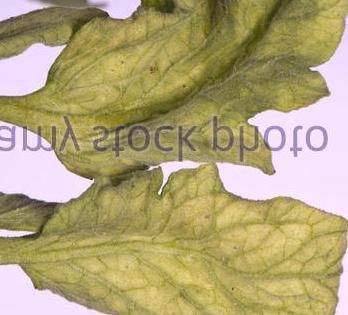Tomato leaf mosaic virus: (15, 0, 348, 196), (0, 160, 348, 315)
